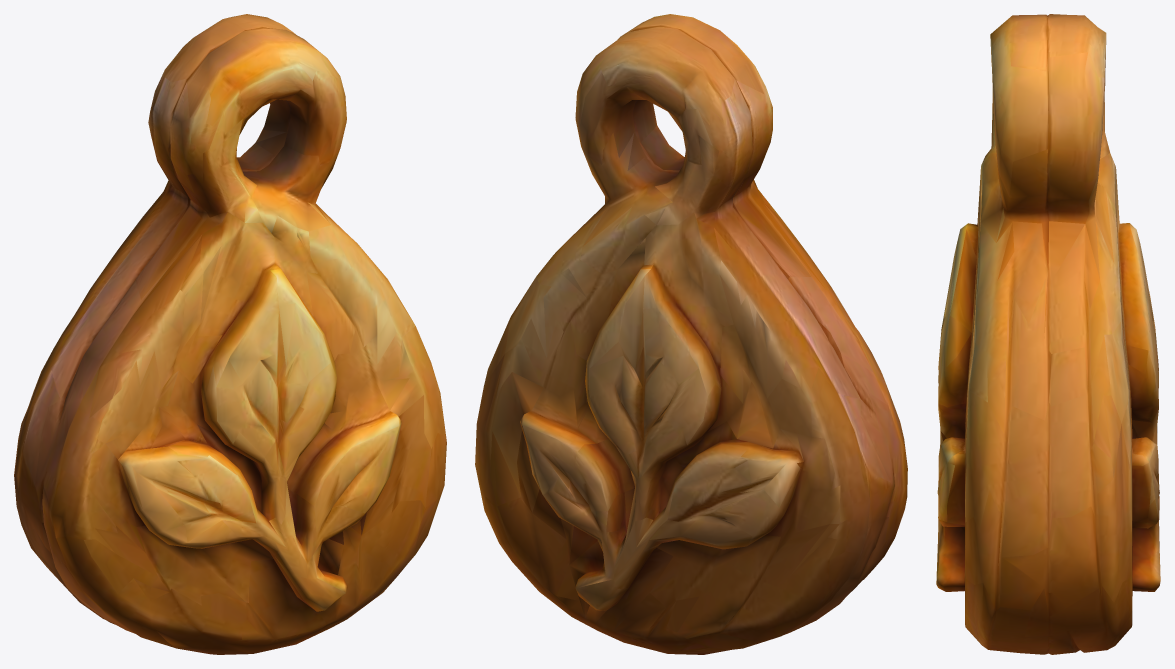
File: charm.glb
3 views of the same model, side by side, from view 1: azimuth 30°, elevation 25°; view 2: azimuth 150°, elevation 25°; view 3: azimuth 270°, elevation 25° (orthographic).
Visible parts, largest first — view 1: tripo_node_bda2d67b-b5af-4913-a853-126106b3a316; view 2: tripo_node_bda2d67b-b5af-4913-a853-126106b3a316; view 3: tripo_node_bda2d67b-b5af-4913-a853-126106b3a316.
Boxes of the visible parts, x1,y1,x2,y2 form: tripo_node_bda2d67b-b5af-4913-a853-126106b3a316: (14, 14, 446, 654); tripo_node_bda2d67b-b5af-4913-a853-126106b3a316: (475, 14, 907, 654); tripo_node_bda2d67b-b5af-4913-a853-126106b3a316: (936, 14, 1160, 654).
Bounding box in the file's own units: 0.0814 × 0.12 × 0.0399.
1 material, 1 textured.
